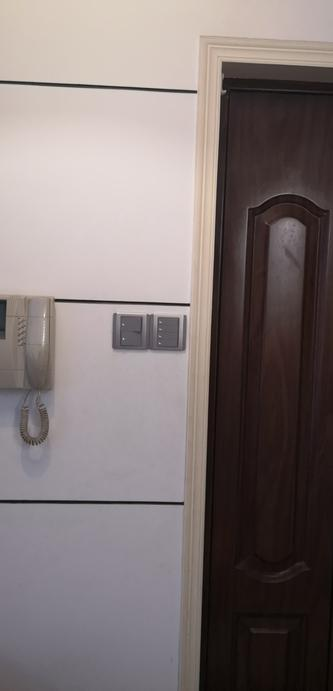switch: (118, 314, 141, 332), (160, 340, 193, 352), (162, 312, 188, 327), (123, 333, 142, 345), (163, 330, 187, 339)
